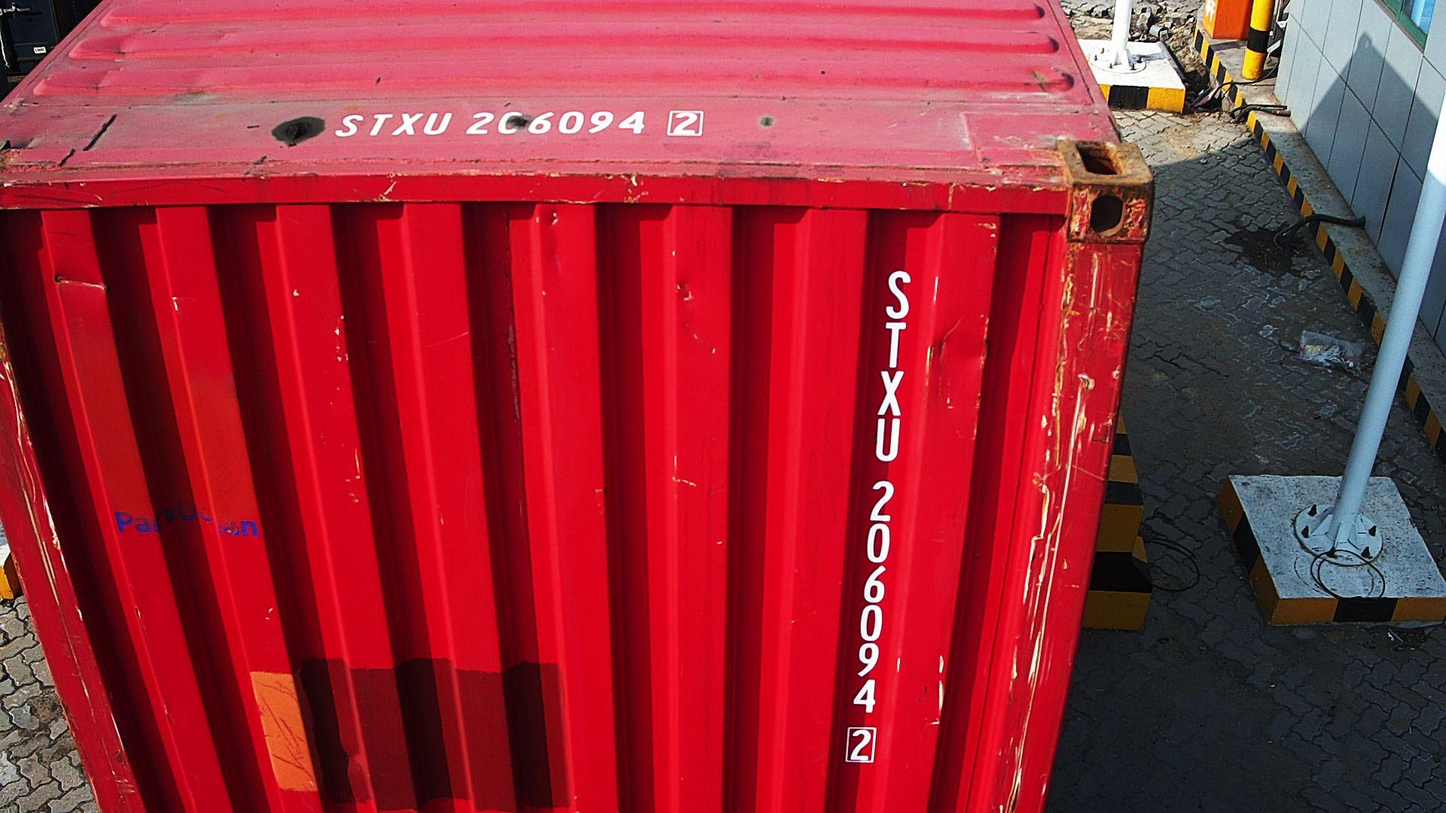container-numbers: (839, 263, 913, 767), (319, 106, 709, 142)
